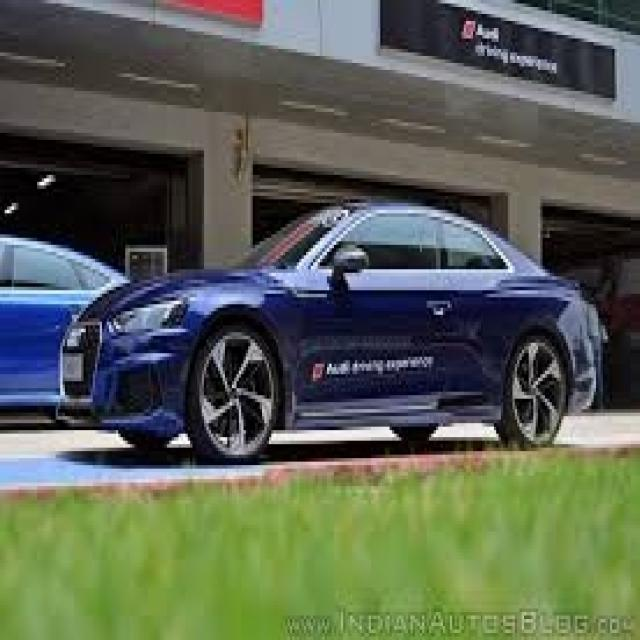blue: (67, 199, 599, 433)
